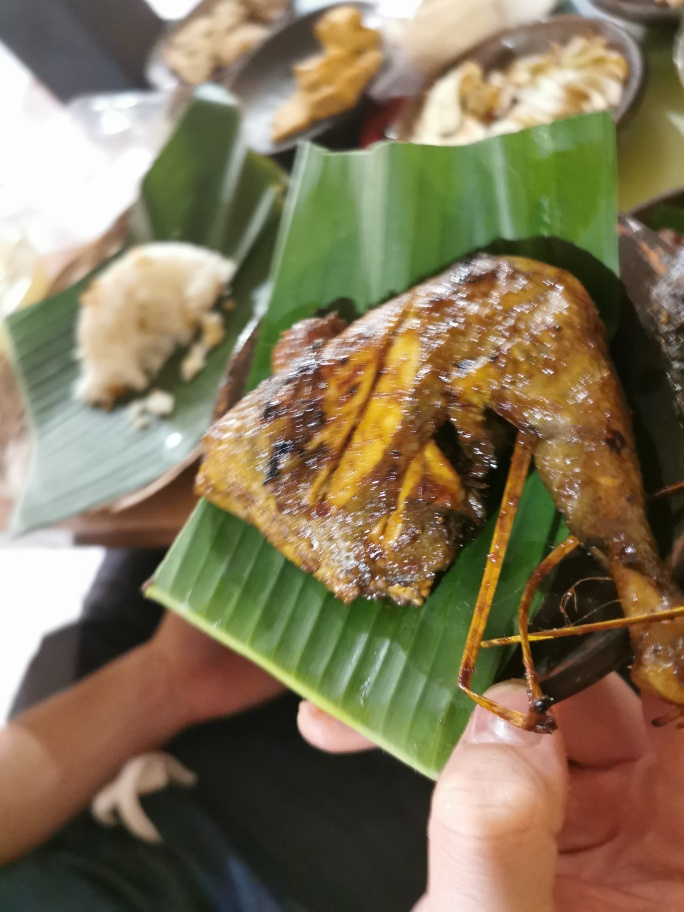ayam bakar: (193, 269, 684, 718)
